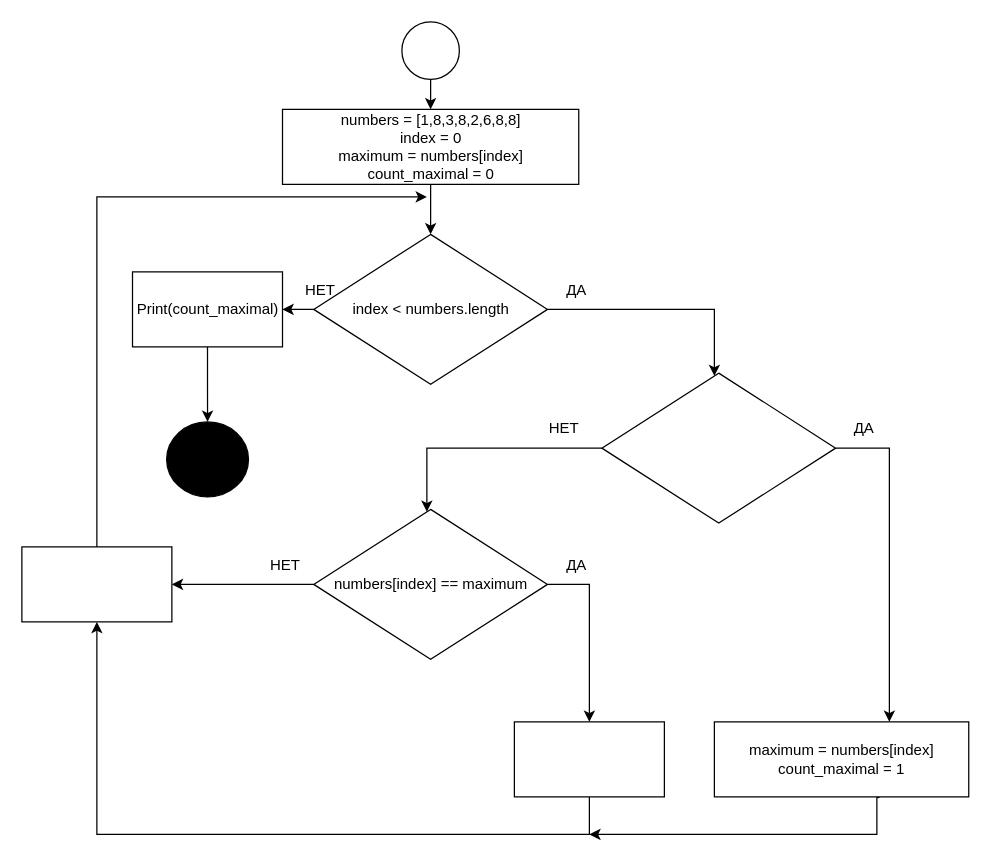
Some shapes in this 991 by 866 pixel diagram are drawn without their labels. The shapes that lost their labels are listed below. From the top down, each one's centre as x and y in pixels, then its label:
point (718, 447): numbers[index] > maximum
point (96, 584): index = index +1
point (588, 759): count_maximal = count_maximal +1
